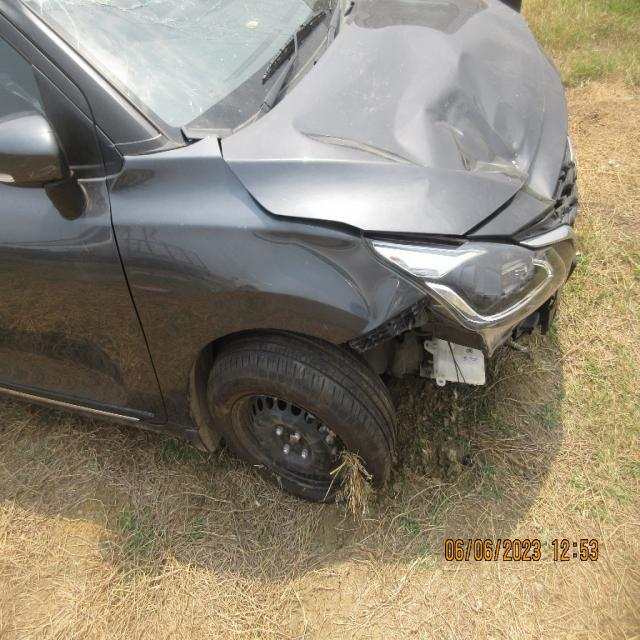damage: (353, 30, 529, 191), (327, 292, 463, 399), (305, 193, 466, 271), (503, 139, 568, 235)
